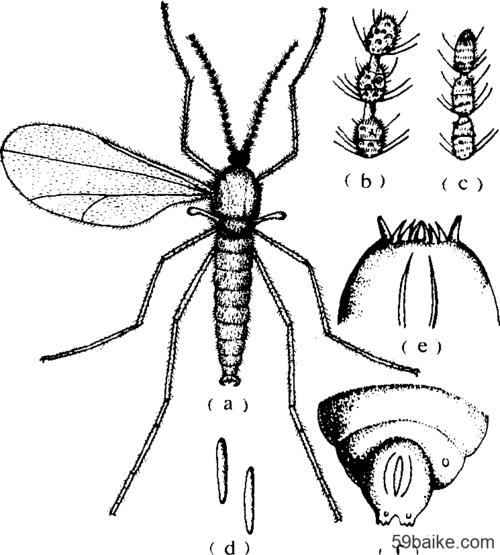Cecidomyiidae: (1, 3, 392, 523)
